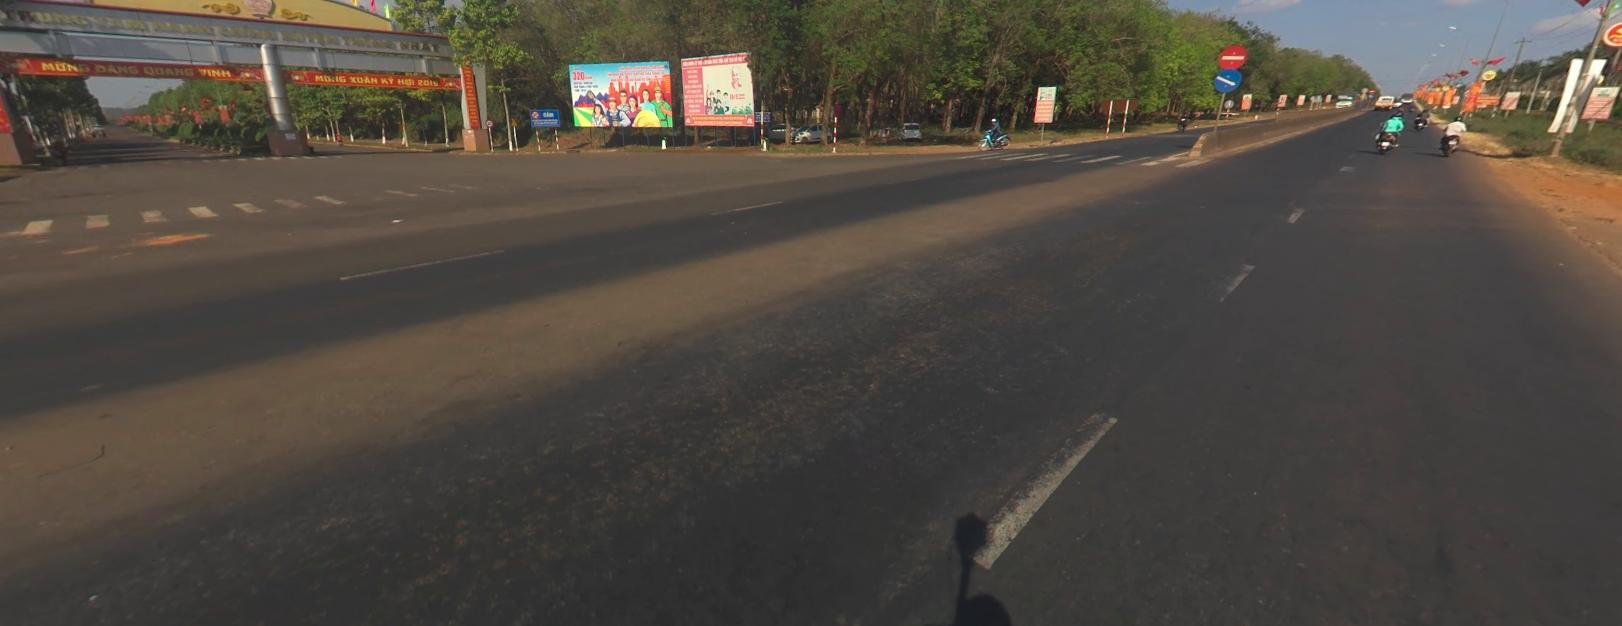Cam nguoc chieu: (1216, 43, 1246, 68), (1368, 88, 1374, 92)
Hieu lenh: (1212, 68, 1241, 92), (1368, 92, 1374, 96)
